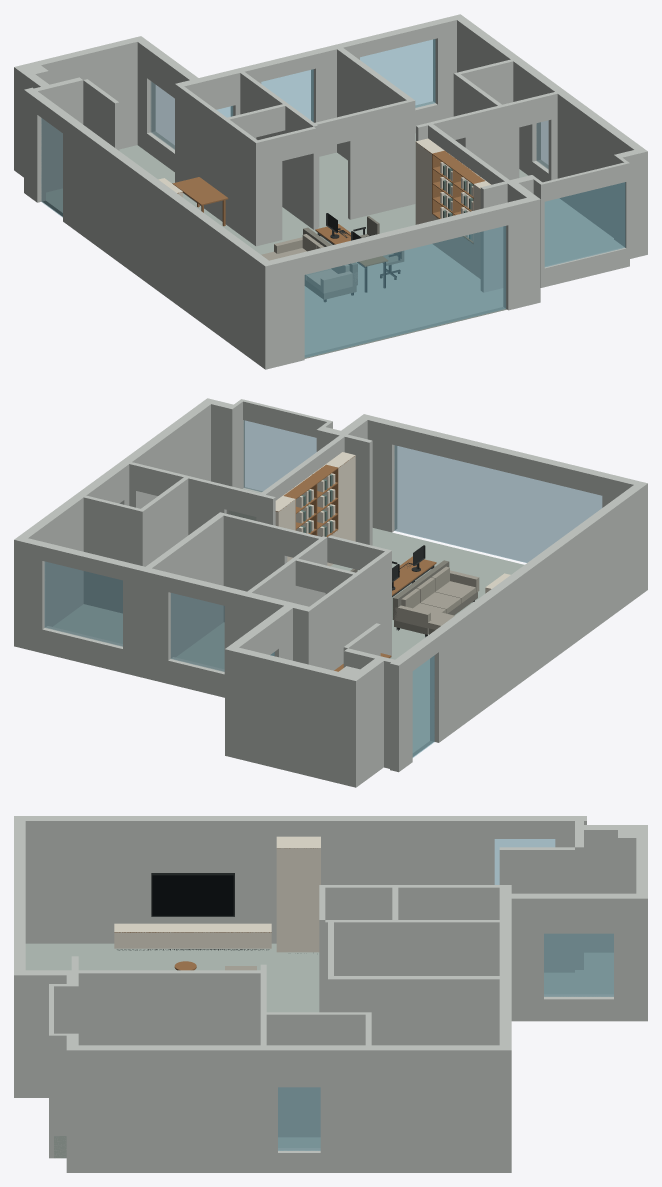
The model's file is baseline-v04-house-structure.obj.
3 views of the same model, one above another, from view 1: azimuth 30°, elevation 25°; view 2: azimuth 150°, elevation 25°; view 3: azimuth 270°, elevation 25° (orthographic). The views are drawn at different scales.
Visible parts, largest first — view 1: outer-left-0, floor, outer-top-glass-0, lower-centre-top-end, lower-narrow-left-end, outer-right-0, bay-front-glass-0, lower-projection-bottom-end, outer-top-0, outer-top-lintel-0, lower-narrow-right-end, outer-top-end (+47 smaller); view 2: outer-left-0, outer-top-glass-0, lower-projection-bottom-end, floor, lower-narrow-left-end, front-facade-2, outer-right-end, front-facade-glass-2, lower-centre-right-end, outer-top-lintel-0, right-small-bottom-end, outer-right-0 (+43 smaller); view 3: outer-left-0, outer-right-0, outer-right-end, retained-central-right-end, floor, lower-centre-right-end, lower-narrow-right-end, lower-narrow-left-end, right-small-left-end, tv-high-case-body, left-short-partition-end, lower-projection-right-glass-0 (+28 smaller).
Part boxes in pixels (<box>): outer-left-0: <box>63,116,273,369</box>; floor: <box>42,133,613,358</box>; outer-top-glass-0: <box>304,226,505,357</box>; lower-centre-top-end: <box>348,99,415,219</box>; lower-narrow-left-end: <box>180,86,257,244</box>; outer-right-0: <box>550,86,642,237</box>; bay-front-glass-0: <box>544,182,625,267</box>; lower-projection-bottom-end: <box>14,36,145,173</box>; outer-top-0: <box>260,253,304,369</box>; outer-top-lintel-0: <box>300,203,508,274</box>; lower-narrow-right-end: <box>240,72,317,229</box>; outer-top-end: <box>503,195,540,310</box>; outer-left-0: <box>430,481,647,742</box>; outer-top-glass-0: <box>394,445,602,562</box>; lower-projection-bottom-end: <box>225,646,361,787</box>; floor: <box>53,528,524,756</box>; lower-narrow-left-end: <box>309,551,389,670</box>; front-facade-2: <box>123,562,173,683</box>; outer-right-end: <box>14,479,105,648</box>; front-facade-glass-2: <box>44,561,122,646</box>; lower-centre-right-end: <box>146,514,223,657</box>; outer-top-lintel-0: <box>392,422,606,495</box>; right-small-bottom-end: <box>83,495,145,613</box>; outer-right-0: <box>116,402,210,508</box>; outer-left-0: <box>14,816,494,943</box>; outer-right-0: <box>78,1045,277,1172</box>; outer-right-end: <box>320,1045,511,1172</box>; retained-central-right-end: <box>78,970,266,1045</box>; floor: <box>25,943,613,1147</box>; lower-centre-right-end: <box>334,976,499,1045</box>; lower-narrow-right-end: <box>325,920,499,1012</box>; lower-narrow-left-end: <box>325,885,499,919</box>; right-small-left-end: <box>266,1012,371,1137</box>; tv-high-case-body: <box>276,836,320,952</box>; left-short-partition-end: <box>499,847,574,972</box>; lower-projection-right-glass-0: <box>544,933,613,996</box>.
Bounding box in the file's own units: 11.27 × 2.85 × 12.89.
